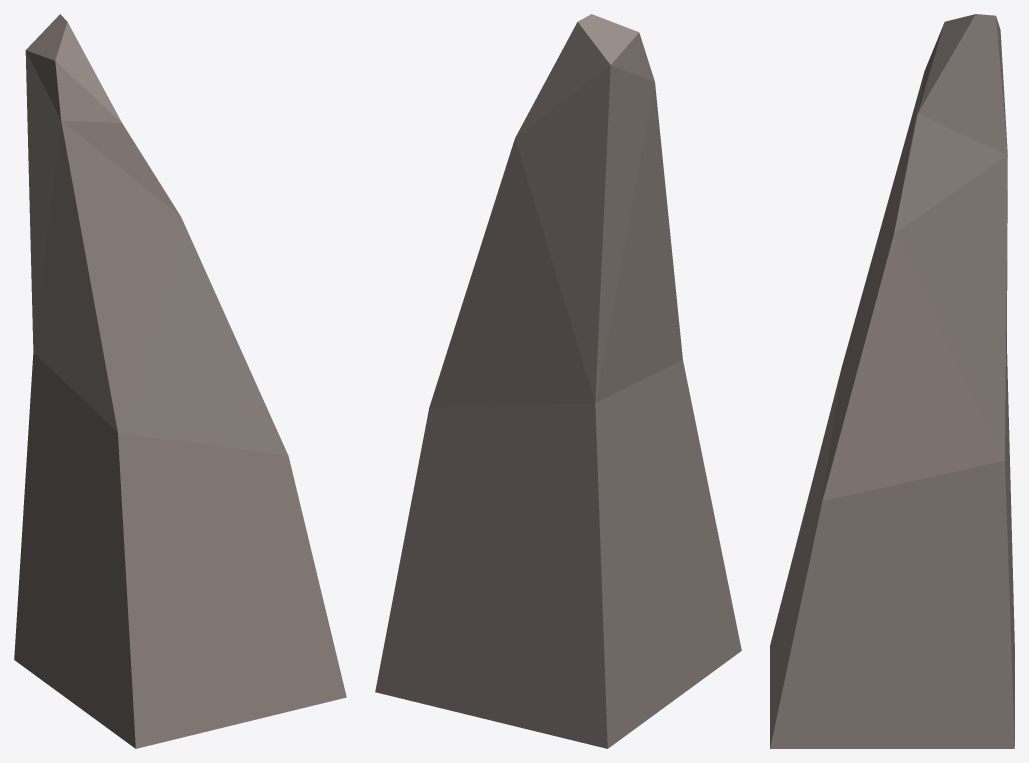
The model's file is Rock_Sharp_s_08.fbx.
3 views of the same model, side by side, from view 1: azimuth 30°, elevation 25°; view 2: azimuth 150°, elevation 25°; view 3: azimuth 270°, elevation 25° (orthographic). The views are drawn at different scales.
Visible parts, largest first — view 1: Rock_Sharp_s_08; view 2: Rock_Sharp_s_08; view 3: Rock_Sharp_s_08.
Boxes of the visible parts, x1,y1,x2,y2 form: Rock_Sharp_s_08: (14, 14, 346, 748); Rock_Sharp_s_08: (375, 14, 741, 748); Rock_Sharp_s_08: (770, 14, 1014, 748).
Bounding box in the file's own units: 20.78 × 60.63 × 20.75.
